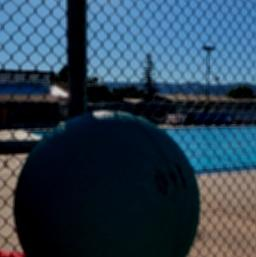algae: (8, 107, 204, 257)
